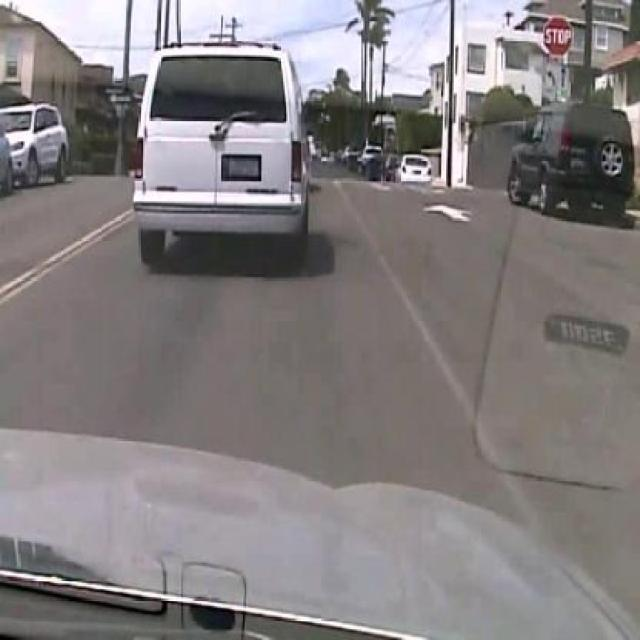stop: (542, 13, 576, 59)
